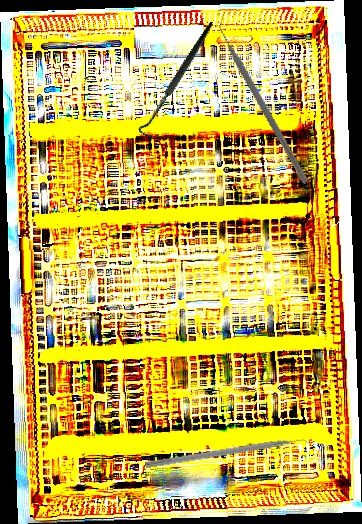Chopper: (170, 10, 360, 186), (144, 434, 316, 478)
Hook Surgical: (109, 21, 249, 143)
